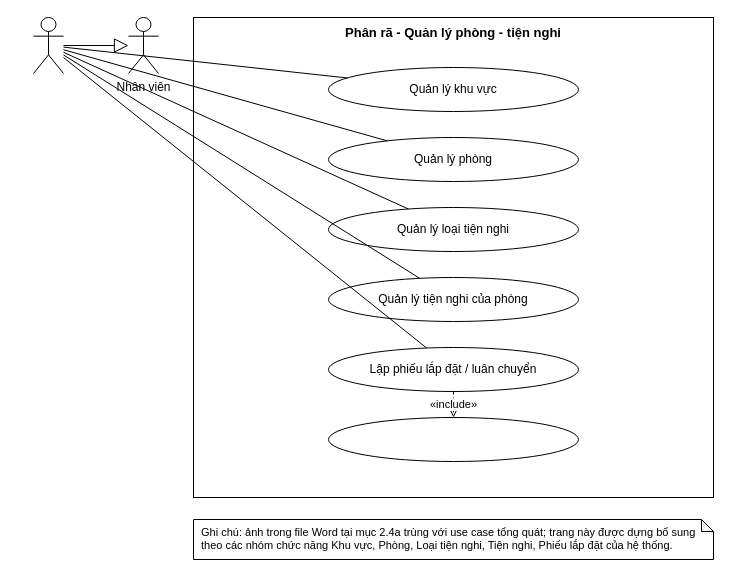
Image size: 731x577. Some labels were removed from this diagram. Each missing label, with the centre of its shape:
"Kiểm tra thiết bị trong ngày" goes at (x=453, y=439).
"NV Phục vụ phòng" goes at (x=48, y=45).
